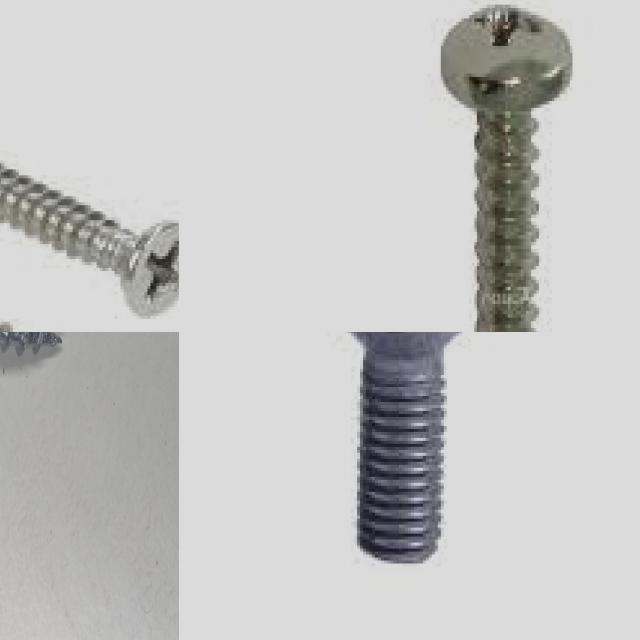Screw: (438, 5, 572, 332), (0, 164, 179, 319), (351, 332, 459, 564)
